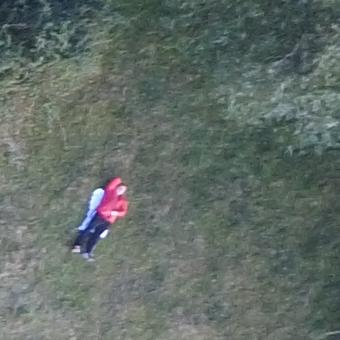human: (70, 178, 132, 260)
